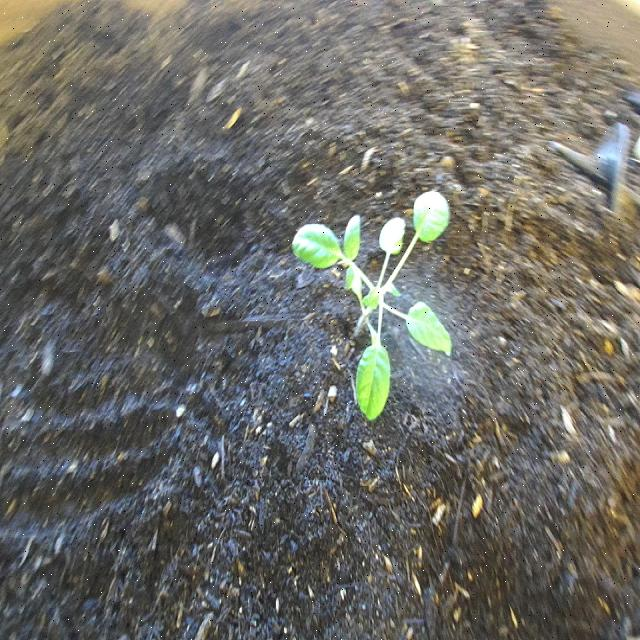Healthy: (285, 184, 468, 431)
